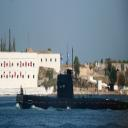submarine: (17, 69, 128, 110)
